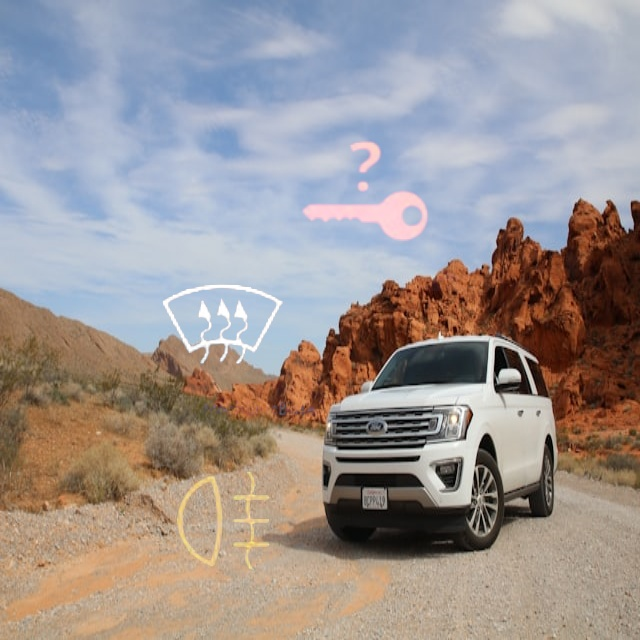symbol: (265, 93, 463, 291), (125, 227, 323, 425), (127, 424, 323, 620)
